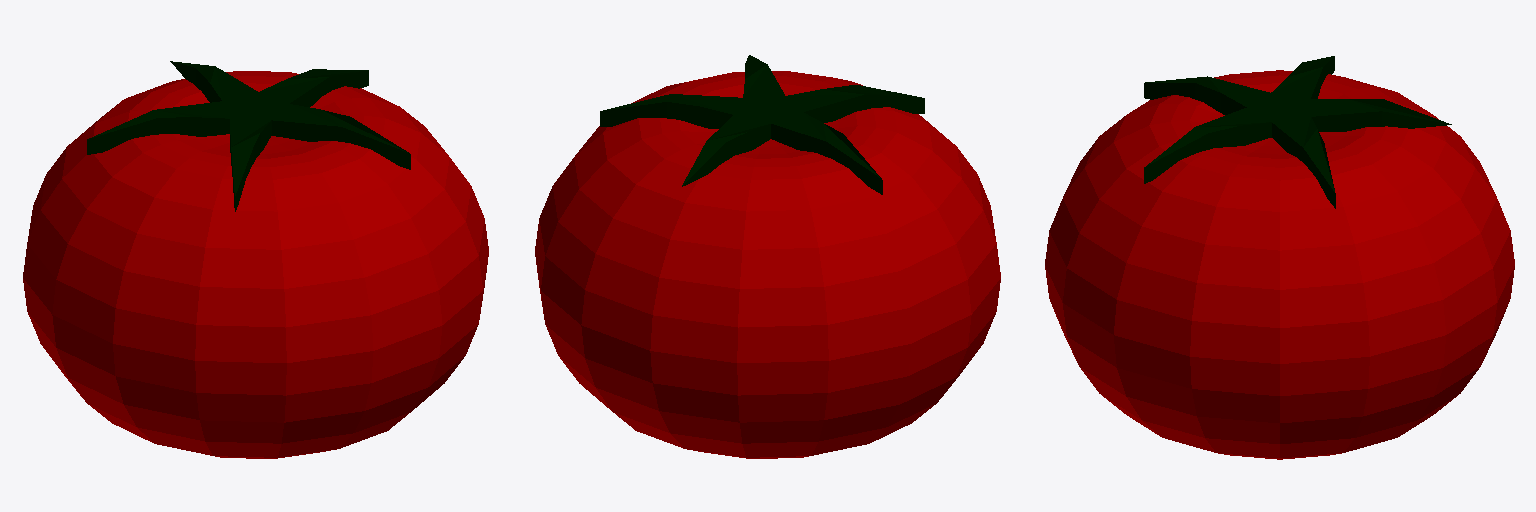
Rendered from Tomato.obj.
3 views of the same model, side by side, from view 1: azimuth 30°, elevation 25°; view 2: azimuth 150°, elevation 25°; view 3: azimuth 270°, elevation 25° (orthographic).
Parts seen in each view (by area): view 1: Sphere, Plane; view 2: Sphere, Plane; view 3: Sphere, Plane.
Part boxes in pixels (bbox=[...]): Sphere: bbox=[23, 71, 488, 458]; Plane: bbox=[87, 61, 410, 211]; Sphere: bbox=[535, 71, 1000, 458]; Plane: bbox=[600, 55, 924, 194]; Sphere: bbox=[1045, 70, 1514, 459]; Plane: bbox=[1144, 56, 1451, 208].
Size of the model in its own units: 2.17 by 1.56 by 2.17.